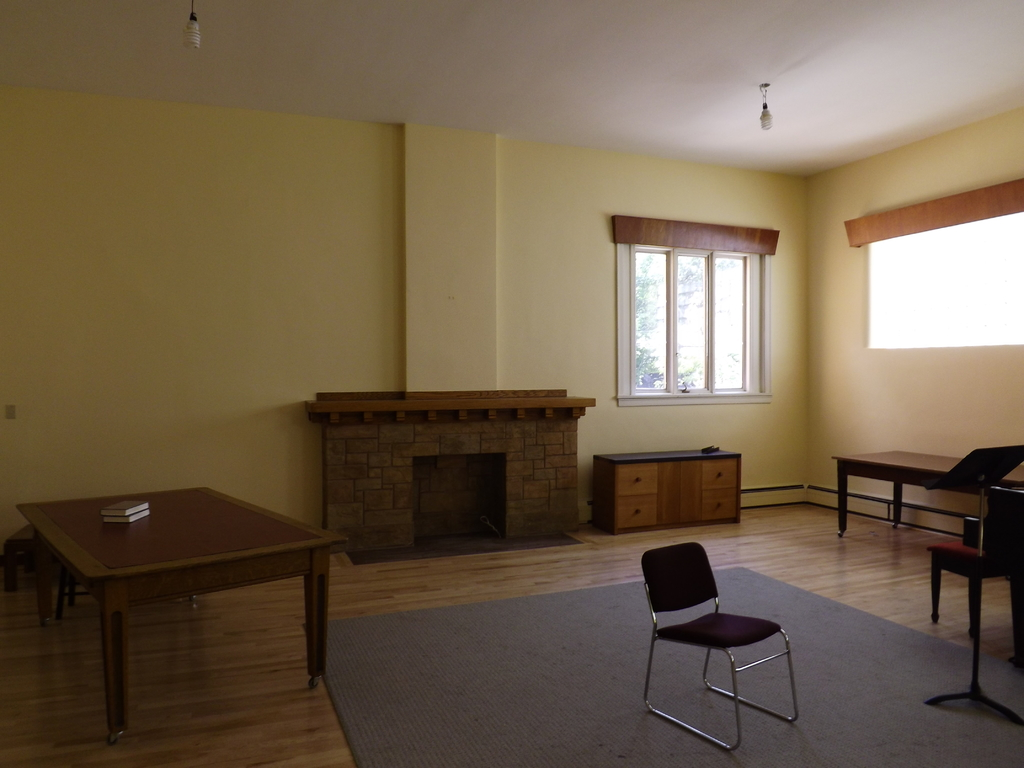Cabinetry: (597, 451, 760, 530)
